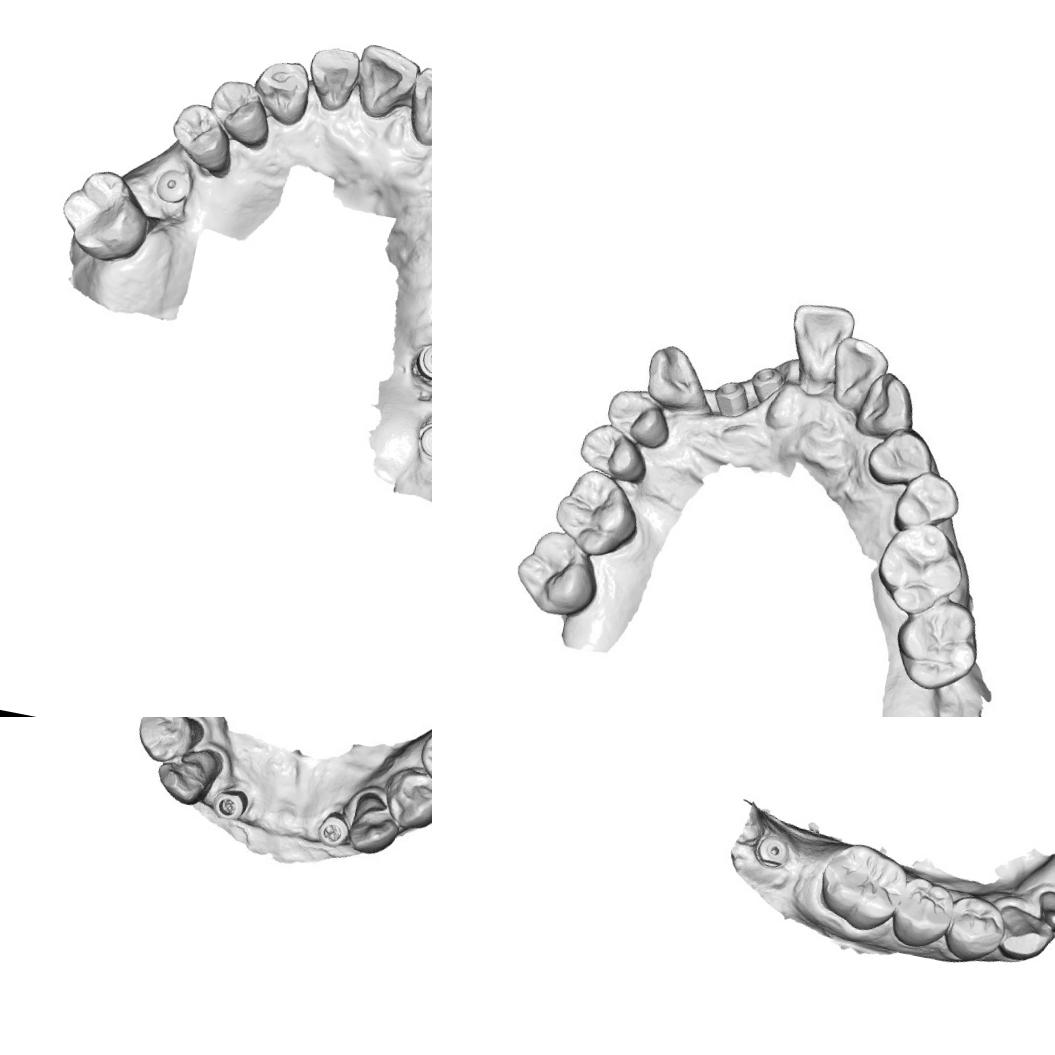canine: (640, 338, 717, 412), (245, 53, 315, 129), (150, 745, 222, 814), (854, 368, 920, 441), (344, 788, 406, 856), (993, 900, 1055, 965)
implant: (752, 362, 792, 410), (750, 829, 793, 873), (711, 377, 754, 420), (151, 165, 194, 206), (314, 812, 354, 850), (212, 788, 250, 822), (412, 416, 432, 463)
implant_minus: (410, 336, 432, 384)
incisor: (779, 298, 857, 389), (346, 39, 422, 125), (300, 42, 363, 116), (830, 336, 890, 408), (401, 63, 432, 154), (1032, 886, 1055, 939)
molar: (52, 156, 162, 270), (809, 834, 916, 940), (886, 594, 984, 698), (870, 520, 968, 620), (510, 524, 605, 622), (550, 467, 639, 555)
premolar: (885, 872, 958, 955), (938, 888, 1012, 968), (163, 98, 239, 175), (202, 75, 278, 152), (886, 464, 962, 535), (598, 383, 676, 452), (864, 422, 938, 492), (574, 416, 650, 484), (384, 761, 432, 825), (130, 717, 193, 764), (417, 722, 432, 787)
